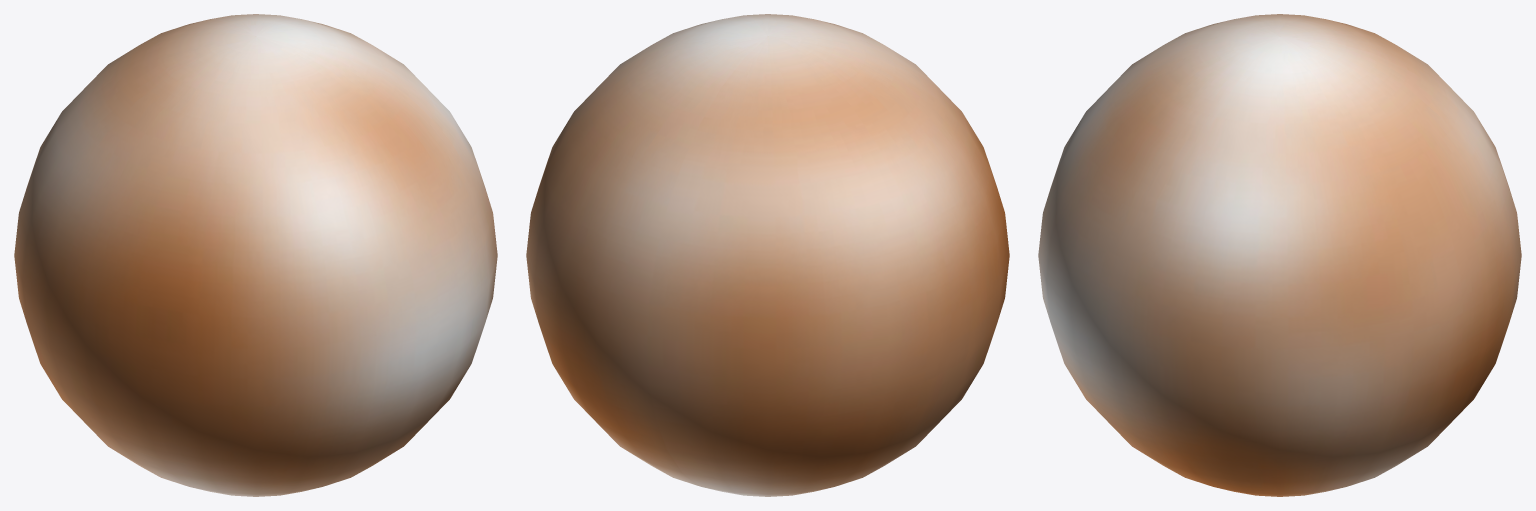
The model's file is pluto.dae.
The picture shows the model from 3 angles, left to right: view 1: azimuth 30°, elevation 25°; view 2: azimuth 150°, elevation 25°; view 3: azimuth 270°, elevation 25°; orthographic projection.
Parts seen in each view (by area): view 1: SketchUp; view 2: SketchUp; view 3: SketchUp.
Part boxes in pixels (bbox=[...]): SketchUp: bbox=[14, 14, 497, 496]; SketchUp: bbox=[526, 14, 1009, 496]; SketchUp: bbox=[1038, 14, 1521, 496].
Size of the model in its own units: 95.57 by 95.57 by 95.57.
1 material, 1 textured.
